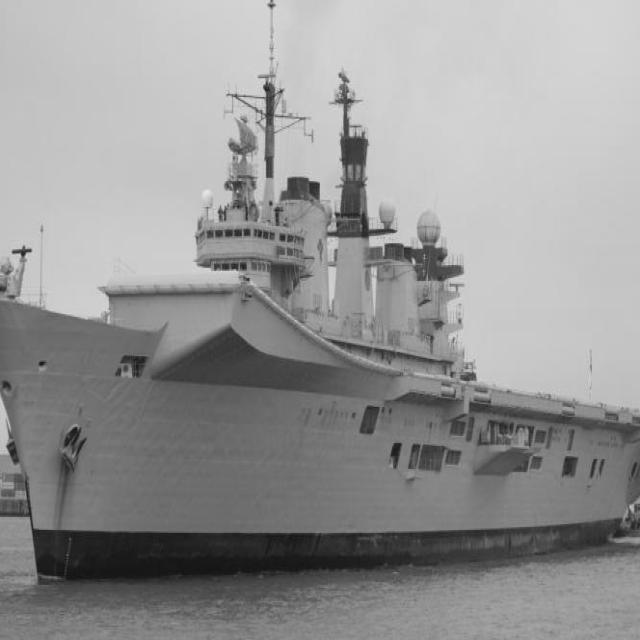Portanaves: (1, 1, 640, 602)
